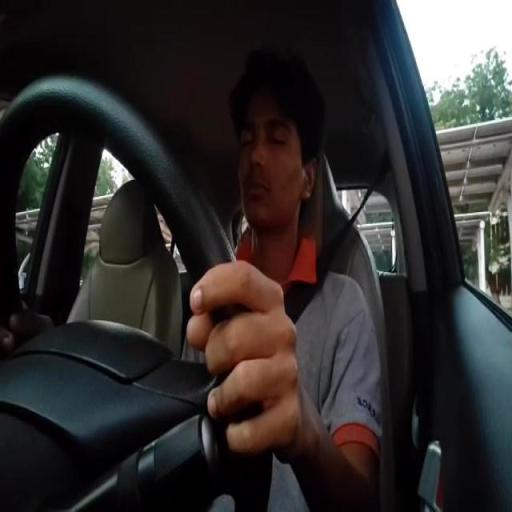sleepy: (229, 54, 320, 231)
